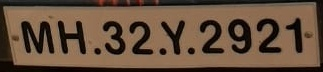character: (20, 19, 55, 54), (57, 19, 86, 55), (161, 19, 187, 55), (128, 20, 154, 55), (200, 19, 225, 54), (256, 18, 281, 53), (102, 19, 126, 55), (228, 19, 252, 54), (284, 17, 304, 55)
